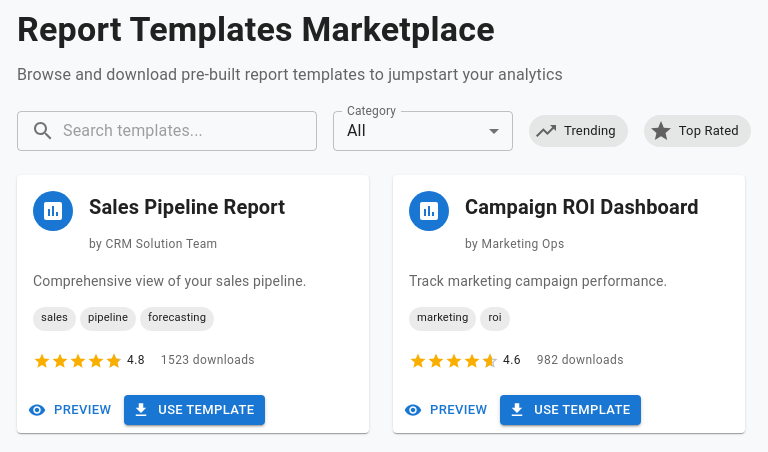
Test: ReportTemplatesPage › applies a template via the backend and navigates to the report designer
This screenshot has width=768, height=452.
Check: the heading "Sales Pipeline Report" is shown, box [89,195,285,219]
Click the button "Use Template" below "4.8".
click(194, 410)  # box [124,395,265,426]
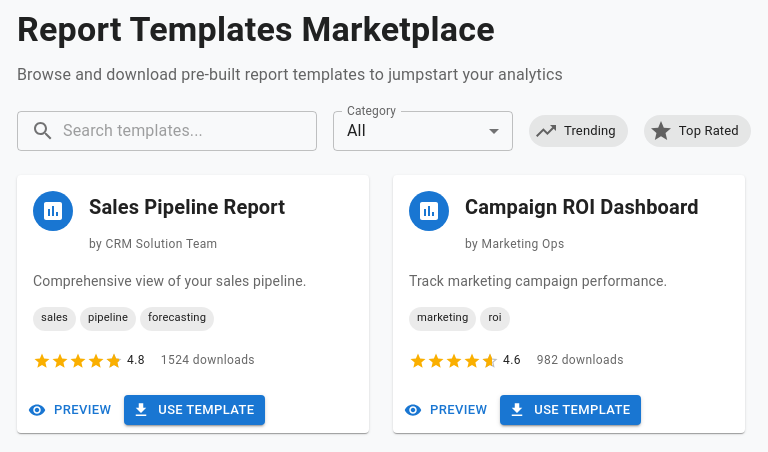
Check: the text "1524 downloads" is shown, box [161,351,255,371]
